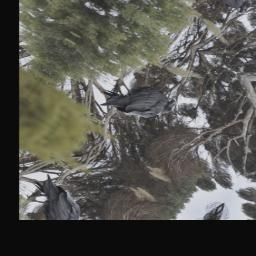Crow: (92, 66, 180, 136)
